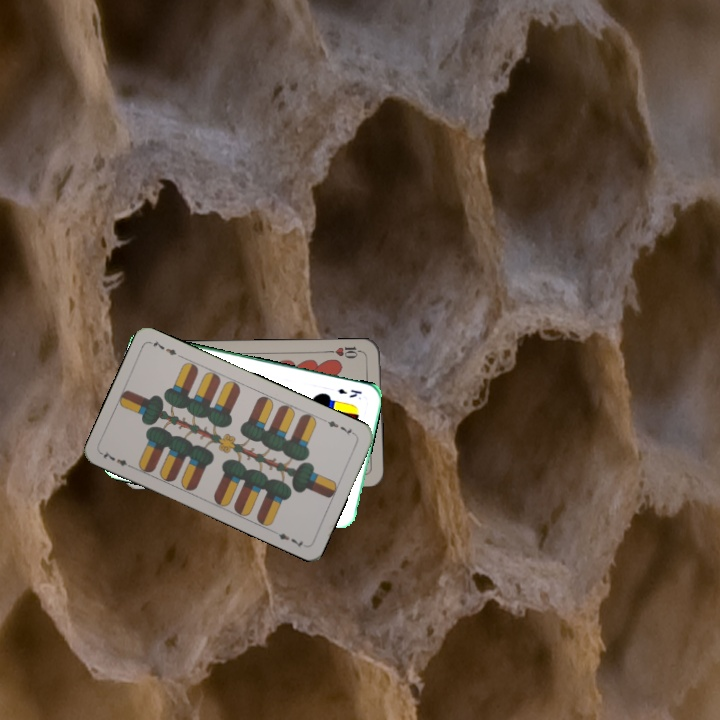E7: (98, 446, 136, 471), (320, 415, 358, 438)
EK: (334, 384, 364, 400)
H10: (325, 342, 366, 361)
